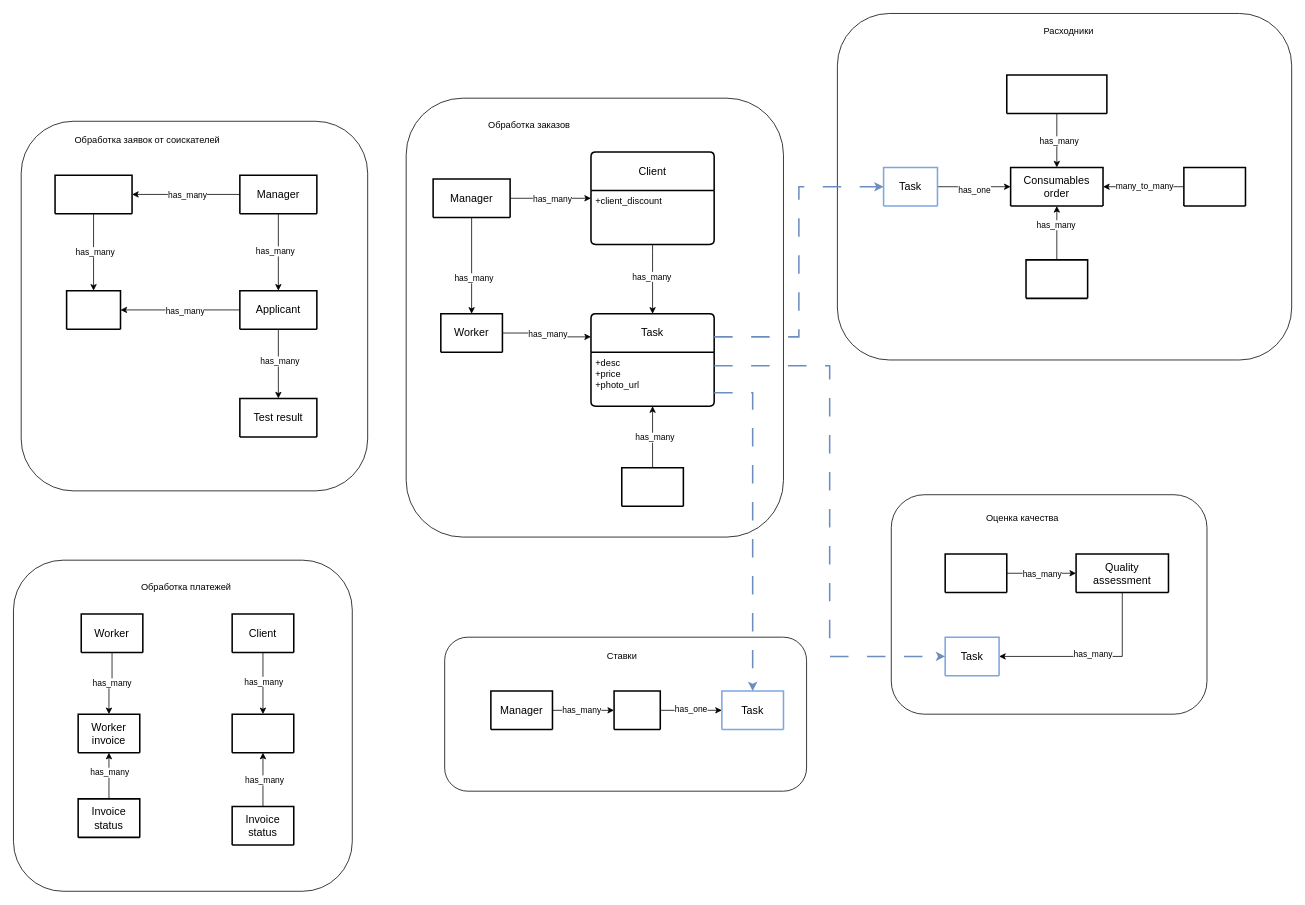
Image size: 1305x905. Some labels were removed from this diagram. The centre of each missing label's shape, as x and y in pixels:
"Bet" goes at (637,710).
"Client invoice" goes at (262,733).
"Consumable" goes at (1214,186).
"Consumables manager" goes at (1056,94).
"Job vacancy" goes at (93,194).
"Order status" goes at (1056,279).
"Quality manager" goes at (975,573).
"Task status" goes at (652,487).
"Test" goes at (93,310).
